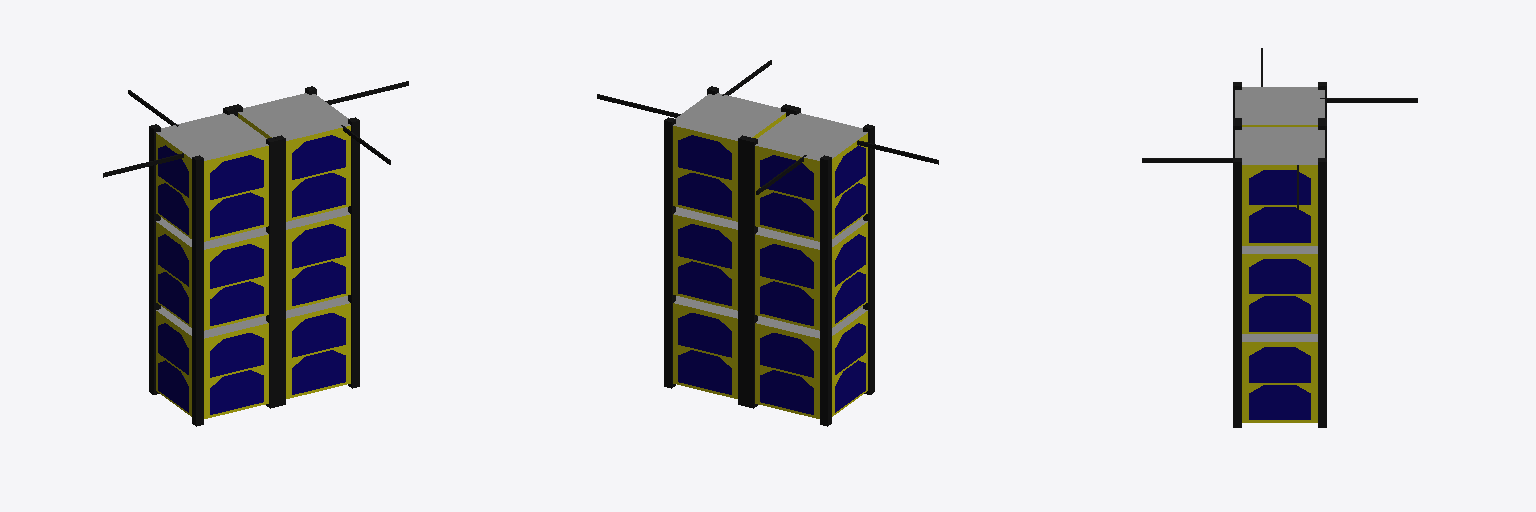
3 views of the same model, side by side, from view 1: azimuth 30°, elevation 25°; view 2: azimuth 150°, elevation 25°; view 3: azimuth 270°, elevation 25° (orthographic).
Parts seen in each view (by area): view 1: CubeSat.001, CubeSat.004, CubeSat, CubeSat.002, CubeSat.003, CubeSat.005, SolarPanel.004, SolarPanel.011, SolarPanel.018, SolarPanel.019, SolarPanel.029, SolarPanel.036 (+27 smaller); view 2: CubeSat.001, CubeSat.004, CubeSat, CubeSat.002, CubeSat.003, CubeSat.005, SolarPanel.003, SolarPanel.021, SolarPanel.020, SolarPanel.035, SolarPanel.026, SolarPanel.042 (+27 smaller); view 3: CubeSat.004, CubeSat.001, CubeSat.005, CubeSat.003, SolarPanel.025, SolarPanel.040, SolarPanel.033, SolarPanel.024, SolarPanel.041, SolarPanel.032, Leg.016, Leg.017 (+4 smaller).
Part boxes in pixels (x1,y1,x2,y2): CubeSat.001: (156,113,268,241); CubeSat.004: (238,93,350,221); CubeSat: (156,217,268,330); CubeSat.002: (156,306,268,418); CubeSat.003: (286,207,350,310); CubeSat.005: (286,296,350,398); SolarPanel.004: (210,244,263,288); SolarPanel.011: (210,155,263,199); SolarPanel.018: (210,370,263,414); SolarPanel.019: (210,333,263,377); SolarPanel.029: (292,224,345,268); SolarPanel.036: (292,135,345,179); CubeSat.001: (755,113,867,241); CubeSat.004: (673,93,785,221); CubeSat: (755,217,867,330); CubeSat.002: (755,306,867,418); CubeSat.003: (673,207,737,310); CubeSat.005: (673,296,737,398); SolarPanel.003: (760,244,813,288); SolarPanel.021: (760,370,813,414); SolarPanel.020: (760,333,813,377); SolarPanel.035: (678,135,731,179); SolarPanel.026: (678,224,731,268); SolarPanel.042: (678,350,731,394); CubeSat.004: (1235,127,1324,245); CubeSat.001: (1235,87,1324,126); CubeSat.005: (1242,334,1317,422); CubeSat.003: (1242,246,1317,333); SolarPanel.025: (1249,296,1310,331); SolarPanel.040: (1249,347,1310,382); SolarPanel.033: (1249,207,1310,242); SolarPanel.024: (1249,259,1310,293); SolarPanel.041: (1249,385,1310,419); SolarPanel.032: (1249,170,1310,204); Leg.016: (1233,158,1241,250); Leg.017: (1318,158,1326,250).
Size of the model in its own units: 0.42 by 0.33 by 0.31.